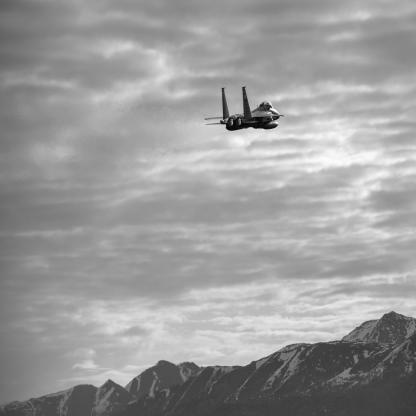F15: (205, 87, 286, 132)
